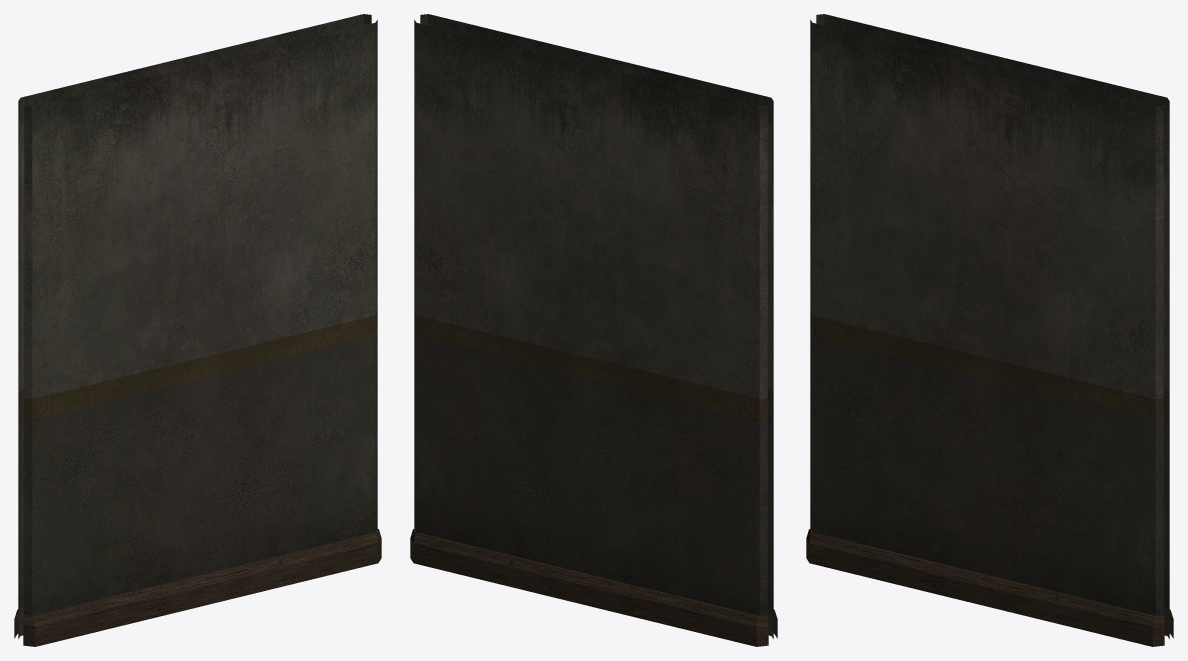
The model's file is wall_1_half.glb.
The picture shows the model from 3 angles, left to right: view 1: azimuth 30°, elevation 25°; view 2: azimuth 150°, elevation 25°; view 3: azimuth 330°, elevation 25°; orthographic projection.
Parts seen in each view (by area): view 1: wall_1_half; view 2: wall_1_half; view 3: wall_1_half.
Part boxes in pixels (x1,y1,x2,y2): wall_1_half: [14, 14, 381, 646]; wall_1_half: [410, 14, 777, 646]; wall_1_half: [806, 14, 1173, 646].
Size of the model in its own units: 2.09 by 3 by 0.18.
Materials: 2 (2 with a texture image).
